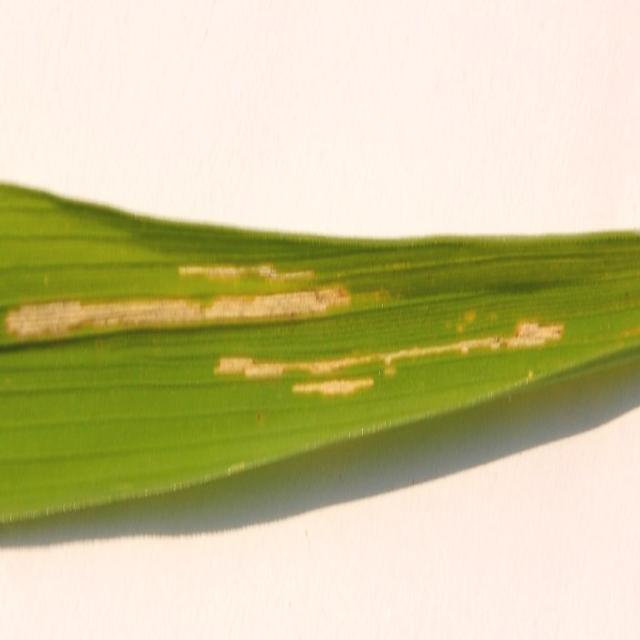Bacterial_Leaf_Blight: (9, 231, 588, 428)
